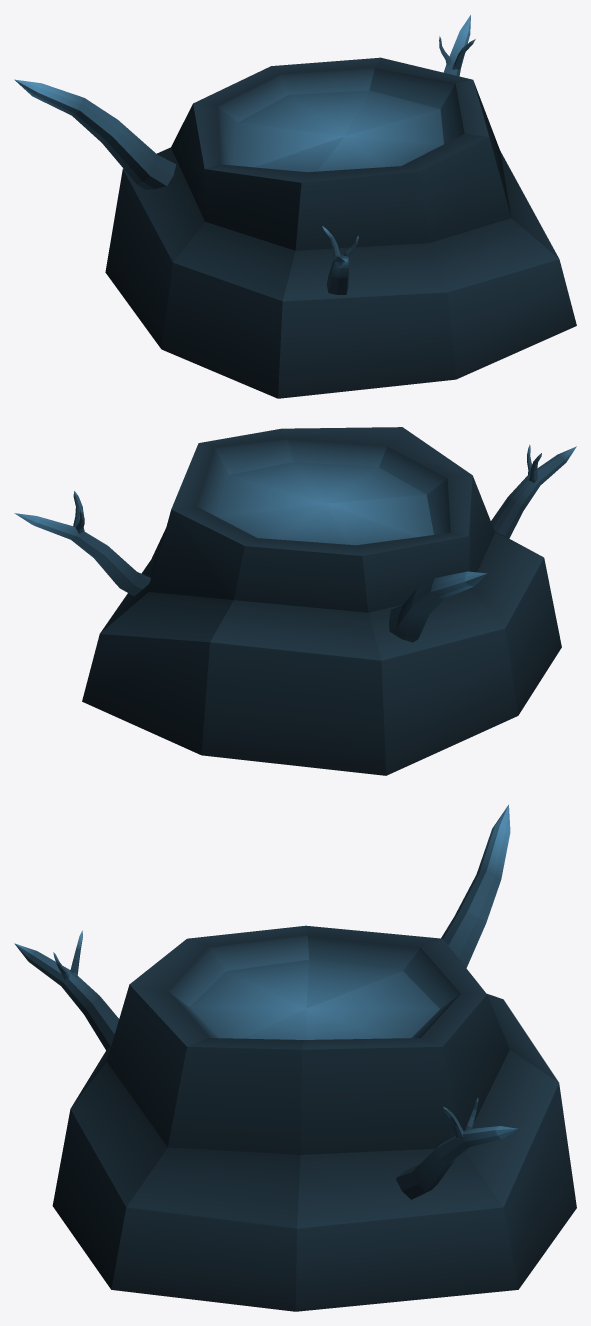
The model's file is Moon_Tree_Low_3.fbx.
3 renders of one model, top to bottom at view 1: azimuth 30°, elevation 25°; view 2: azimuth 150°, elevation 25°; view 3: azimuth 270°, elevation 25°, orthographic. The views are drawn at different scales.
Parts seen in each view (by area): view 1: Moon_Tree_2_Low; view 2: Moon_Tree_2_Low; view 3: Moon_Tree_2_Low.
Part boxes in pixels (box(x1,y1,x2,y2)): Moon_Tree_2_Low: box(14, 15, 576, 398); Moon_Tree_2_Low: box(14, 427, 576, 775); Moon_Tree_2_Low: box(14, 804, 576, 1311).
Bounding box in the file's own units: 39.11 × 17.76 × 35.04.
